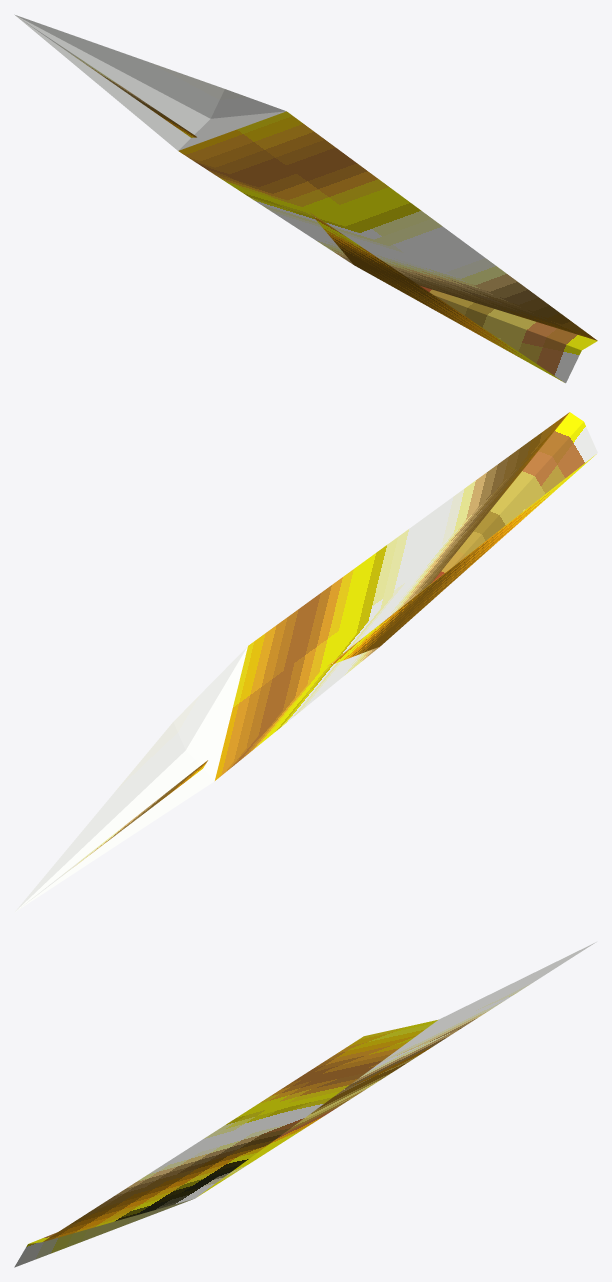
File: sliver_3.obj
3 renders of one model, top to bottom at view 1: azimuth 30°, elevation 25°; view 2: azimuth 150°, elevation 25°; view 3: azimuth 330°, elevation 25°, orthographic. The views are drawn at different scales.
Visible parts, largest first — view 1: Torus.003_Torus.010; view 2: Torus.003_Torus.010; view 3: Torus.003_Torus.010.
Part boxes in pixels (x1,y1,x2,y2): Torus.003_Torus.010: (14,14,597,383); Torus.003_Torus.010: (14,412,597,912); Torus.003_Torus.010: (14,942,596,1267).
Size of the model in its own units: 0.1356 by 0.2413 by 2.41.
